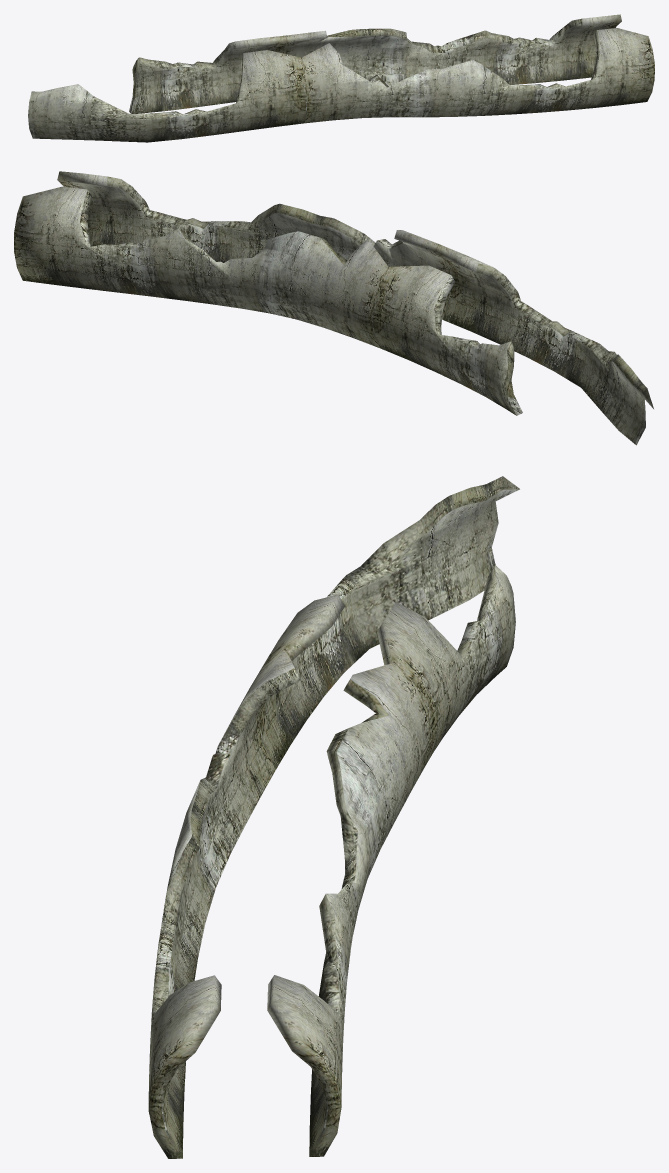
Rendered from destroyed_walls_04.glb.
The picture shows the model from 3 angles, top to bottom: view 1: azimuth 30°, elevation 25°; view 2: azimuth 150°, elevation 25°; view 3: azimuth 270°, elevation 25°; orthographic projection. The views are drawn at different scales.
Visible parts, largest first — view 1: wall.jpg__; view 2: wall.jpg__; view 3: wall.jpg__.
Part boxes in pixels (x1=…): wall.jpg__: x1=28, y1=14, x2=654, y2=142; wall.jpg__: x1=14, y1=171, x2=653, y2=445; wall.jpg__: x1=148, y1=476, x2=519, y2=1158.
Size of the model in its own units: 60.47 by 11.13 by 17.66.
1 material, 1 textured.
